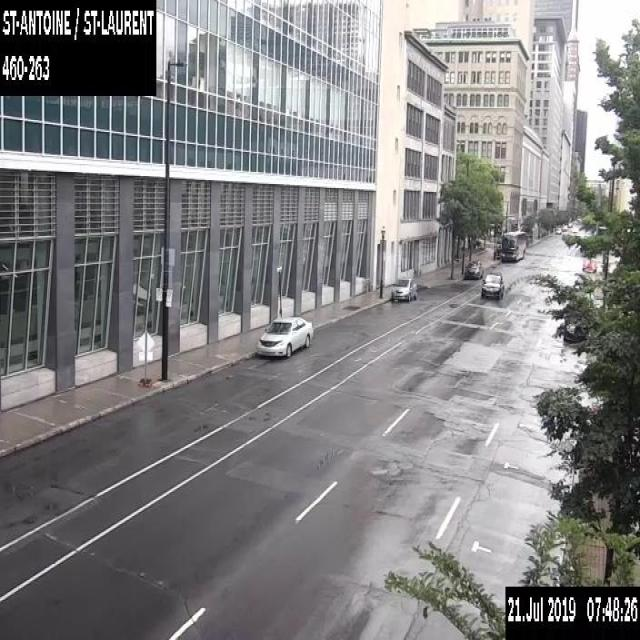bus: (500, 229, 525, 261)
construction: (136, 329, 155, 386), (582, 257, 596, 273)
vehicle: (256, 313, 314, 359), (391, 276, 417, 301), (481, 272, 504, 297), (462, 260, 482, 278), (555, 226, 561, 233)
